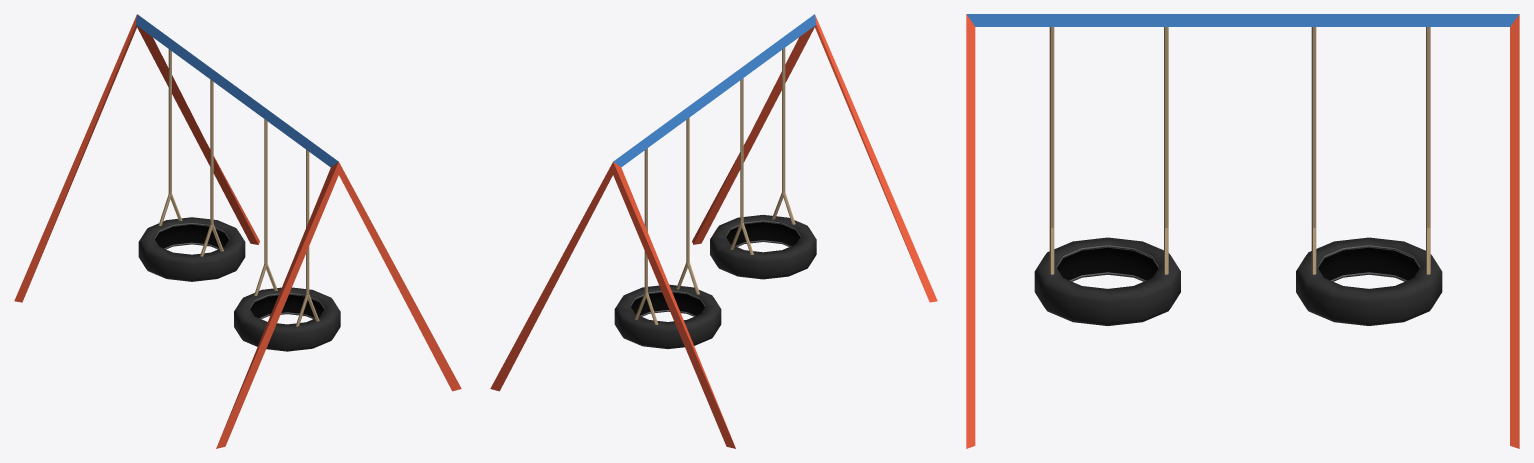
File: PlaygroundHammock_01.glb
The picture shows the model from 3 angles, left to right: view 1: azimuth 30°, elevation 25°; view 2: azimuth 150°, elevation 25°; view 3: azimuth 270°, elevation 25°; orthographic projection. The views are drawn at different scales.
Visible parts, largest first — view 1: PlaygroundHammock_01; view 2: PlaygroundHammock_01; view 3: PlaygroundHammock_01.
Part boxes in pixels (left/top/right/bottom): PlaygroundHammock_01: left=14, top=14, right=461, bottom=448; PlaygroundHammock_01: left=490, top=14, right=937, bottom=448; PlaygroundHammock_01: left=966, top=14, right=1519, bottom=448.
Size of what is drawn, in the model's own units: 2.49 by 2.49 by 3.54.
Materials: 1 (1 with a texture image).
